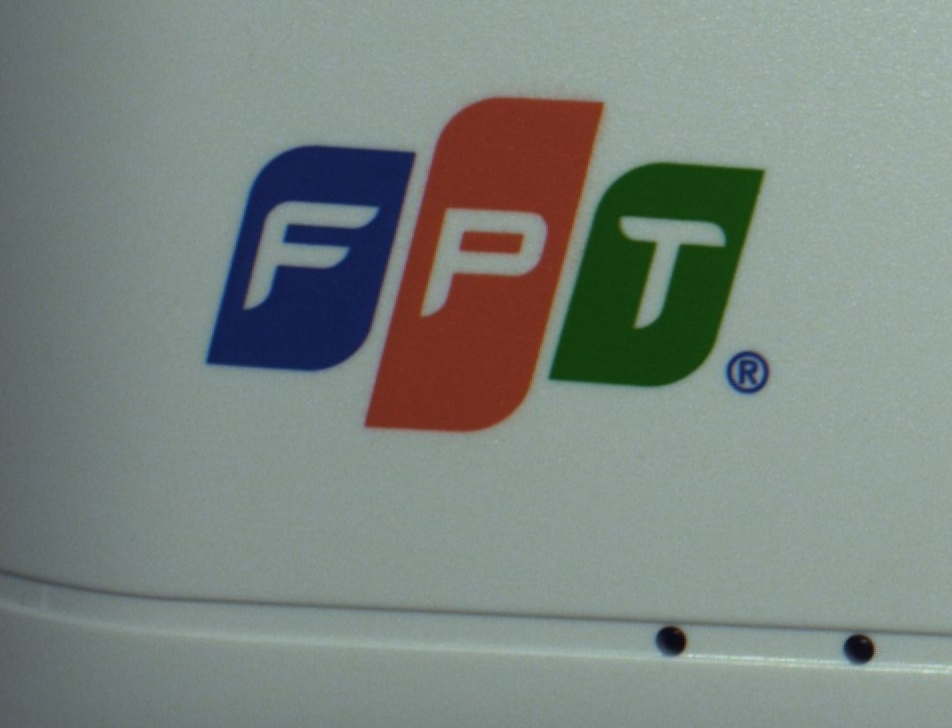BR_FPT: (171, 73, 778, 443)
